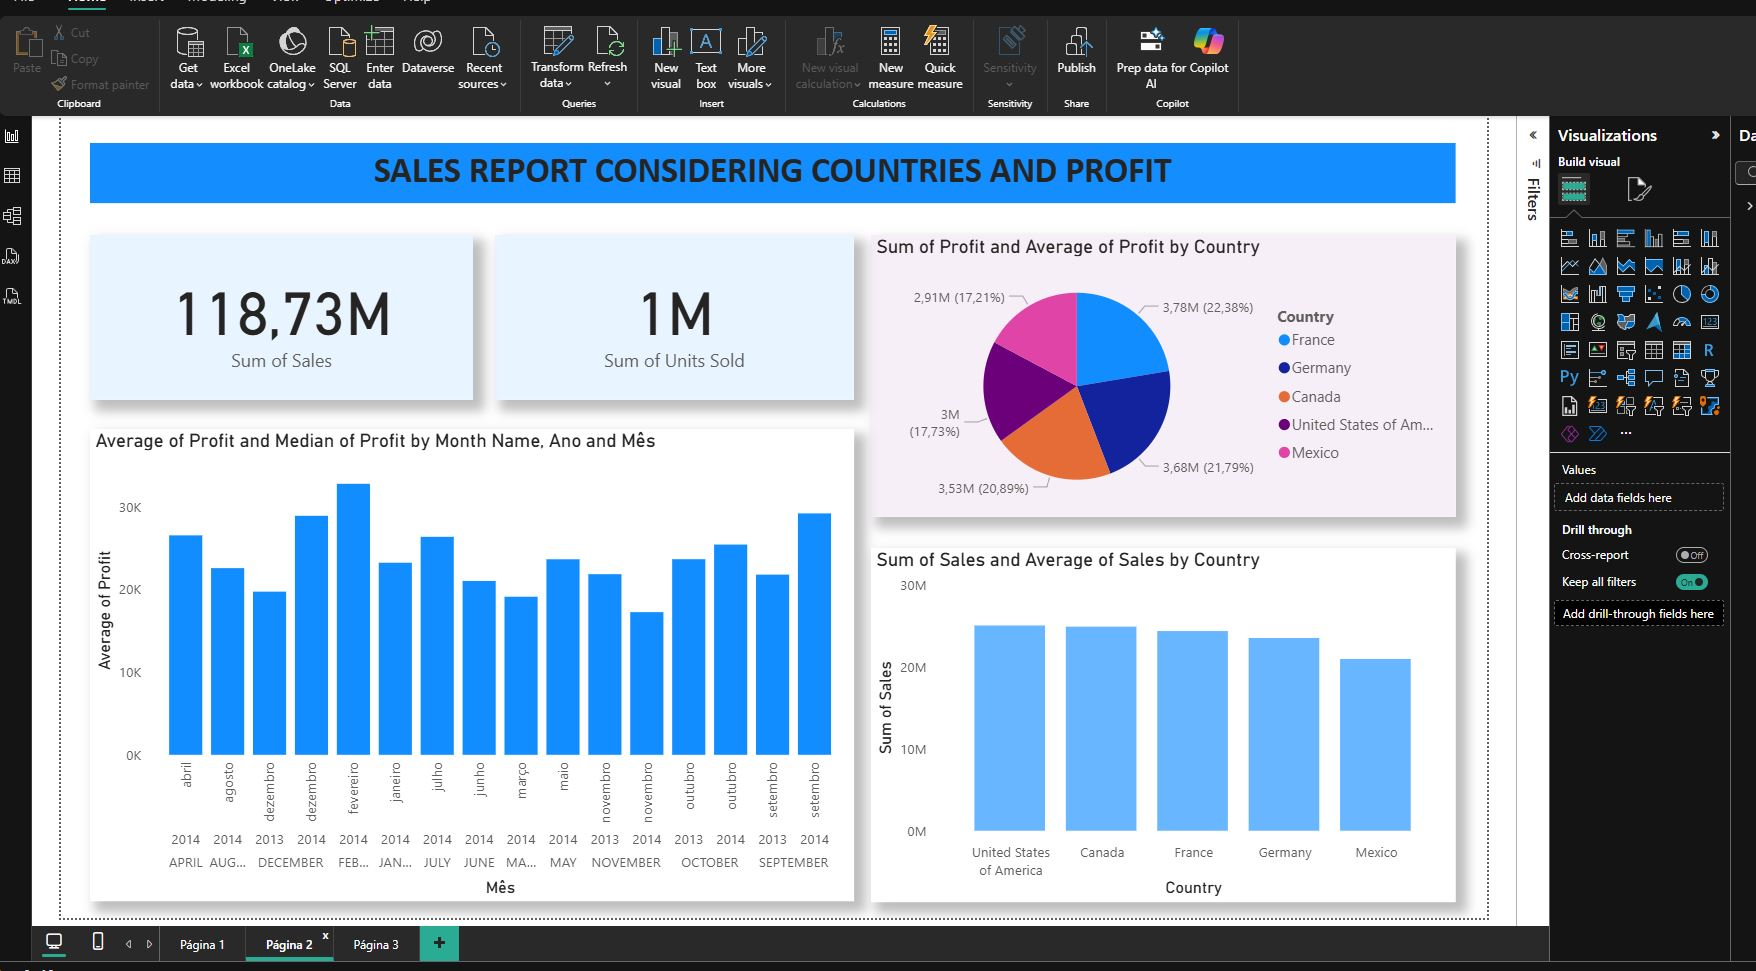

The dashboard page shown, as its layout file describes it:
{"tool":"powerbi","page":{"name":"Página 2","canvas":[1280,720],"ordinal":1},"visuals":[{"type":"textbox","box":[26.1,23.9,1225.6,54.4],"z":0},{"type":"card","fields":{"Values":["Sum(financials.Sales)"]},"box":[26.1,106.7,343.9,148],"z":1000},{"type":"card","fields":{"Values":["Sum(financials.Units Sold)"]},"box":[389.7,106.7,322.2,148],"z":2000},{"type":"pieChart","fields":{"Category":["financials.Country"],"Y":["Sum(financials.Profit)"]},"box":[727.1,106.7,524.6,252.5],"z":3000},{"type":"columnChart","fields":{"Category":["financials.Month Name","financials.Date.Variation.Hierarquia de datas.Ano","financials.Date.Variation.Hierarquia de datas.Mês"],"Y":["Avg(financials.Profit)"]},"box":[26.1,280.8,685.7,424.5],"z":4000},{"type":"columnChart","fields":{"Category":["financials.Country"],"Y":["Sum(financials.Sales)"]},"box":[727.1,387.5,524.6,317.8],"z":5000}]}

Visuals, with their boxes on the page's 1280x720 design canvas (x1, y1, x2, y2). These are canvas units, not pixel positions in the 1756x971 screenshot, which may show the page scaled, cropped or inside an application window:
textbox: Rect(26, 24, 1252, 78)
card - Sum(financials.Sales): Rect(26, 107, 370, 255)
card - Sum(financials.Units Sold): Rect(390, 107, 712, 255)
pieChart - financials.Country x Sum(financials.Profit): Rect(727, 107, 1252, 359)
columnChart - financials.Month Name x financials.Date.Variation.Hierarquia de datas.Ano: Rect(26, 281, 712, 705)
columnChart - financials.Country x Sum(financials.Sales): Rect(727, 388, 1252, 705)
